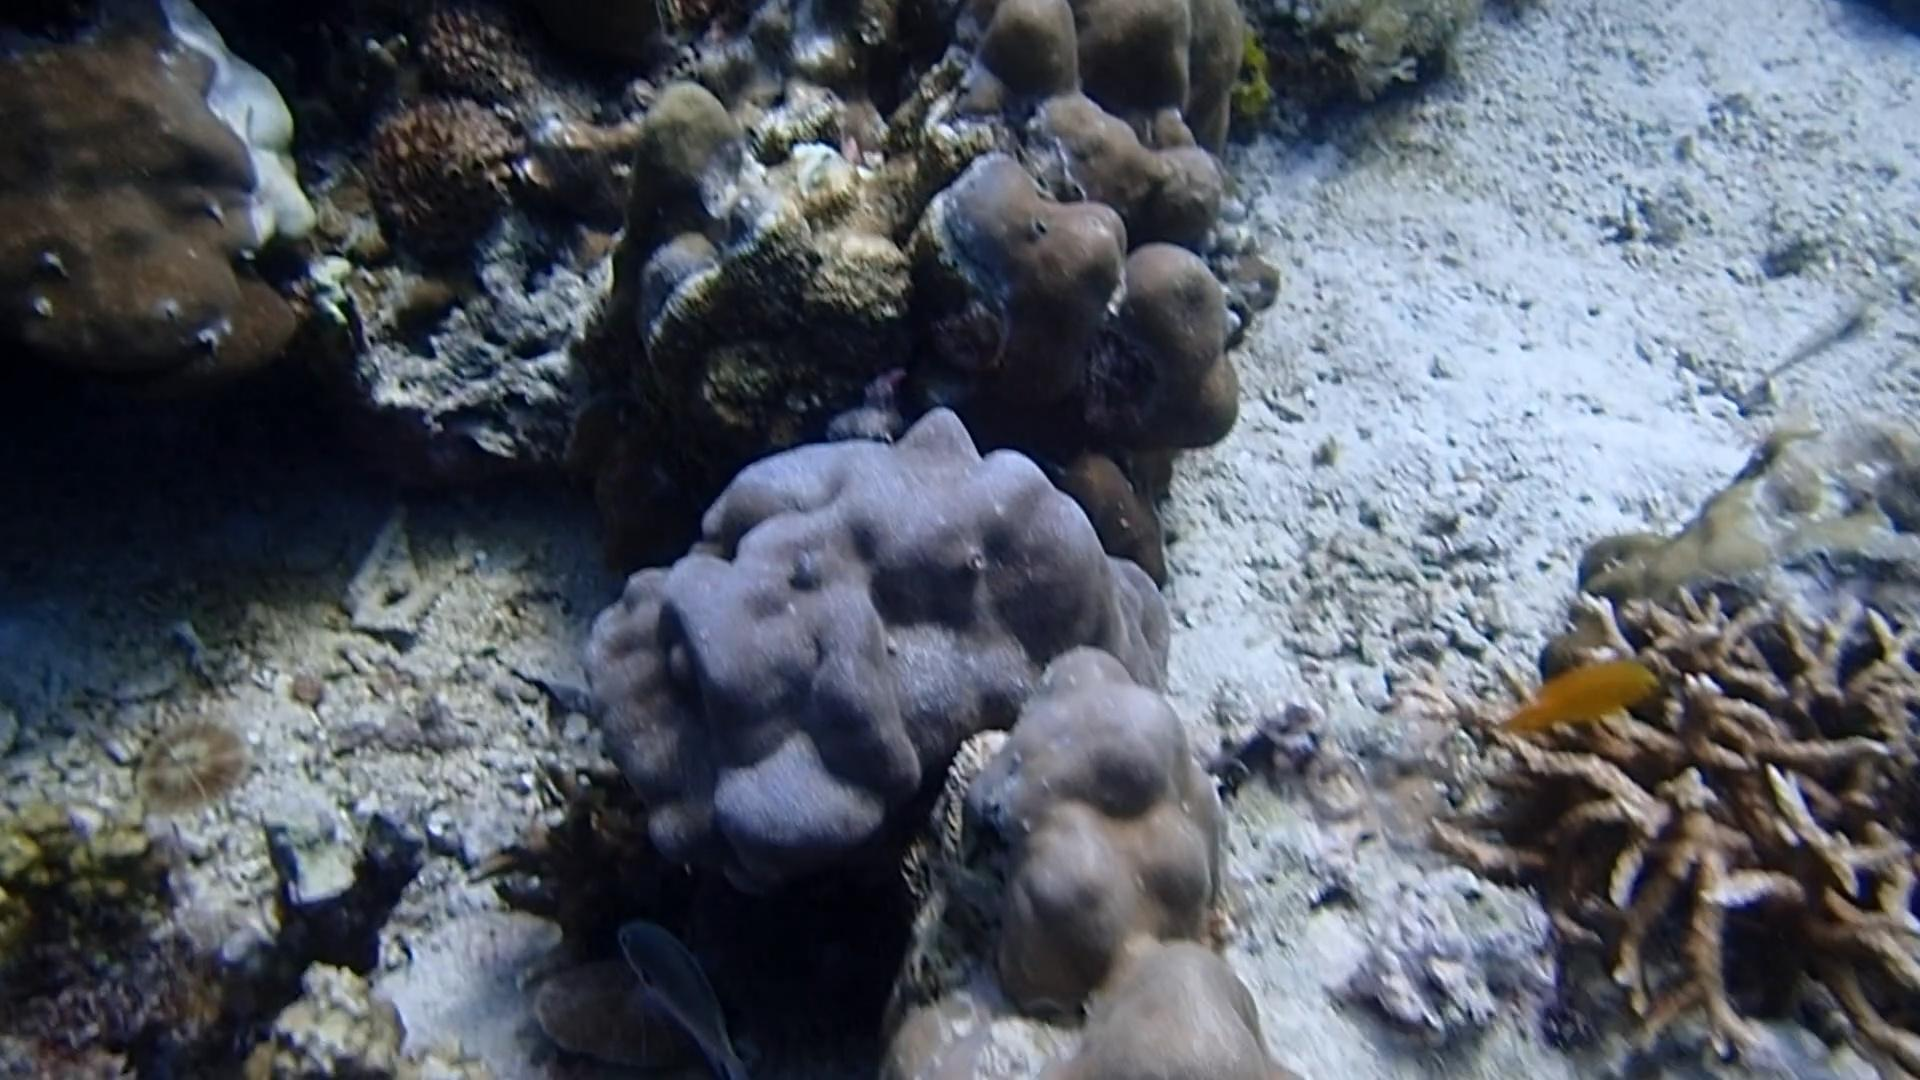Blue Fish Two: (615, 920, 746, 1080)
Yellow Fish: (1489, 655, 1662, 741)
